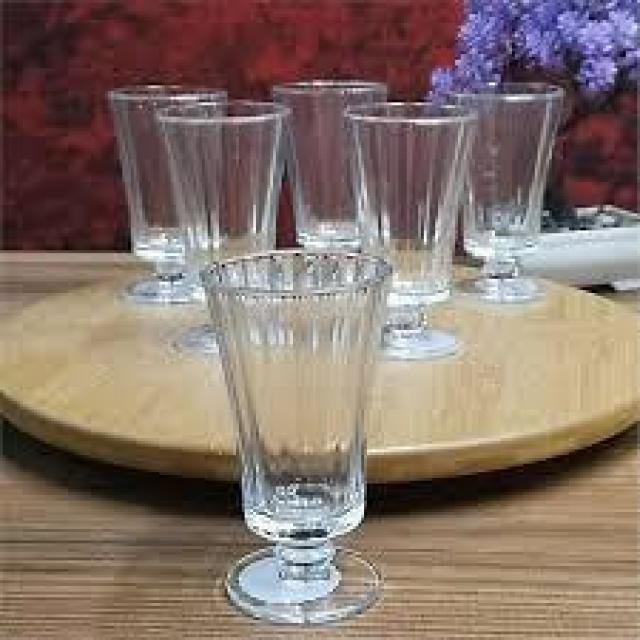non-organic waste: (196, 244, 387, 626)
